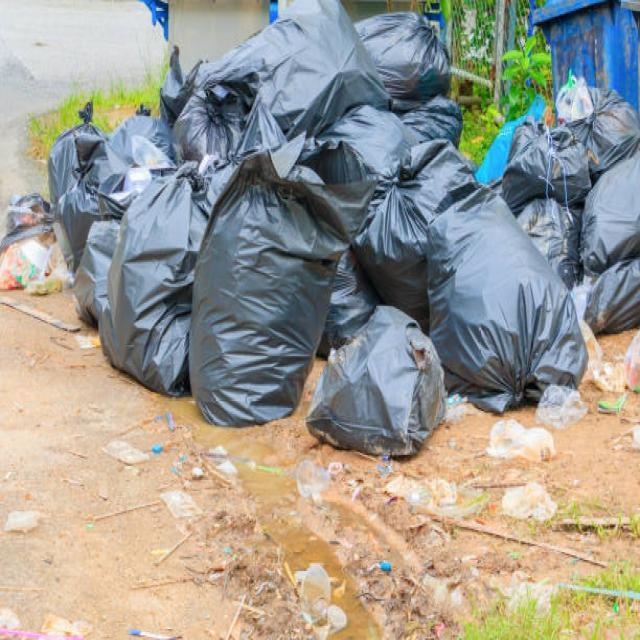garbage: (43, 4, 640, 463)
